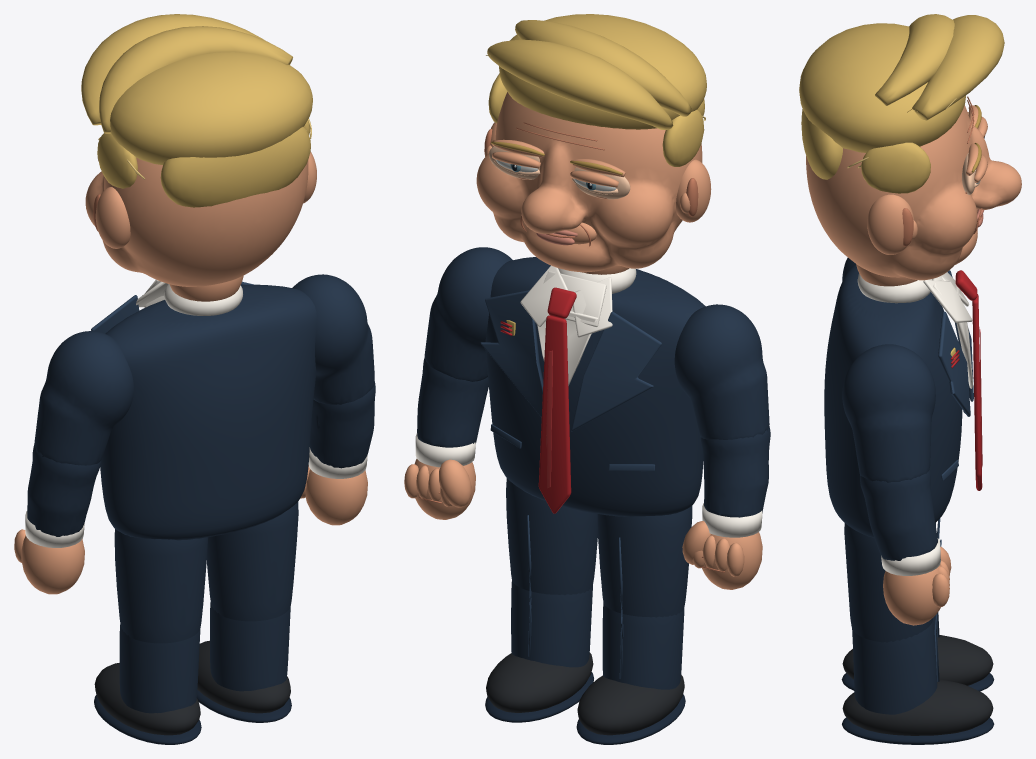
The model's file is captain-trump-v4.glb.
3 renders of one model, left to right at view 1: azimuth 30°, elevation 25°; view 2: azimuth 150°, elevation 25°; view 3: azimuth 270°, elevation 25°, orthographic.
Parts seen in each view (by area): view 1: Tailored jacket, head__Sandy_gold_hair, head__Warm_peach_skin, Upper sleeve L, Trousers thigh L, Trousers thigh R, Upper sleeve R, Trousers lower L, Trousers lower R, Lower sleeve L, Lower sleeve R, hand.L__Warm_peach_skin (+9 smaller); view 2: Tailored jacket, head__Warm_peach_skin, head__Sandy_gold_hair, Upper sleeve L, chest__Tailored_lapels, Trousers thigh L, Trousers thigh R, Upper sleeve R, Trousers lower R, Trousers lower L, chest__Long_red_tie, chest__Ivory_shirt (+13 smaller); view 3: head__Sandy_gold_hair, head__Warm_peach_skin, Tailored jacket, Upper sleeve R, Trousers lower R, Lower sleeve R, Leather shoe R, Trousers thigh R, hand.R__Warm_peach_skin, chest__Ivory_shirt, Leather shoe L, chest__Tailored_lapels (+5 smaller).
Boxes of the visible parts, x1,y1,x2,y2 form: Tailored jacket: [100, 284, 316, 540]; head__Sandy_gold_hair: [81, 14, 312, 207]; head__Warm_peach_skin: [85, 152, 316, 301]; Upper sleeve L: [34, 331, 133, 465]; Trousers thigh L: [114, 529, 208, 643]; Trousers thigh R: [207, 501, 298, 621]; Upper sleeve R: [292, 274, 374, 404]; Trousers lower L: [119, 624, 200, 713]; Trousers lower R: [210, 602, 290, 691]; Lower sleeve L: [27, 445, 101, 536]; Lower sleeve R: [310, 381, 375, 468]; hand.L__Warm_peach_skin: [14, 529, 84, 594]; Tailored jacket: [485, 257, 705, 516]; head__Warm_peach_skin: [476, 92, 711, 274]; head__Sandy_gold_hair: [487, 14, 706, 166]; Upper sleeve L: [674, 304, 769, 439]; chest__Tailored_lapels: [480, 290, 661, 471]; Trousers thigh L: [597, 506, 692, 617]; Trousers thigh R: [506, 478, 597, 595]; Upper sleeve R: [424, 247, 512, 381]; Trousers lower R: [511, 581, 592, 667]; Trousers lower L: [602, 602, 684, 689]; chest__Long_red_tie: [500, 287, 576, 513]; chest__Ivory_shirt: [520, 265, 636, 385]; head__Sandy_gold_hair: [799, 14, 1004, 193]; head__Warm_peach_skin: [806, 105, 1021, 286]; Tailored jacket: [824, 263, 962, 537]; Upper sleeve R: [842, 344, 935, 482]; Trousers lower R: [852, 620, 937, 714]; Lower sleeve R: [860, 469, 937, 560]; Leather shoe R: [842, 679, 993, 735]; Trousers thigh R: [844, 523, 935, 642]; hand.R__Warm_peach_skin: [883, 546, 951, 625]; chest__Ivory_shirt: [857, 272, 973, 388]; Leather shoe L: [842, 635, 993, 685]; chest__Tailored_lapels: [938, 270, 973, 480].
Bounding box in the file's own units: 2.25 × 4.29 × 1.27.
